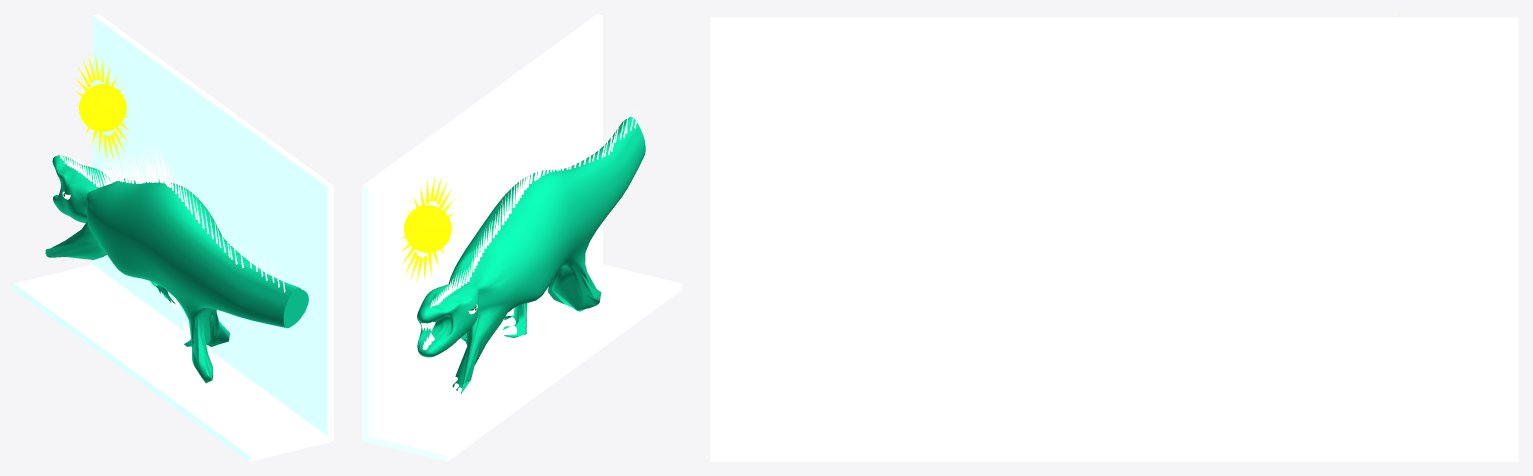
Rendered from dino16.glb.
3 views of the same model, side by side, from view 1: azimuth 30°, elevation 25°; view 2: azimuth 150°, elevation 25°; view 3: azimuth 270°, elevation 25° (orthographic). The views are drawn at different scales.
Visible parts, largest first — view 1: Cube, Boole.1, Cube.1, Cone.79, Sun; view 2: Cube, Boole.1, Cube.1, Cone.79, Sun; view 3: Cube.
Boxes of the visible parts, box(x1,y1,x2,y2) form: Cube: box(93, 14, 333, 442); Boole.1: box(45, 155, 308, 383); Cube.1: box(14, 264, 331, 461); Cone.79: box(41, 143, 285, 391); Sun: box(79, 84, 126, 131); Cube: box(362, 14, 602, 442); Boole.1: box(417, 117, 645, 393); Cube.1: box(364, 264, 681, 461); Cone.79: box(421, 106, 639, 398); Sun: box(404, 205, 451, 252); Cube: box(710, 17, 1518, 461).
Size of the model in its own units: 0.1378 by 0.3973 by 0.6605.
